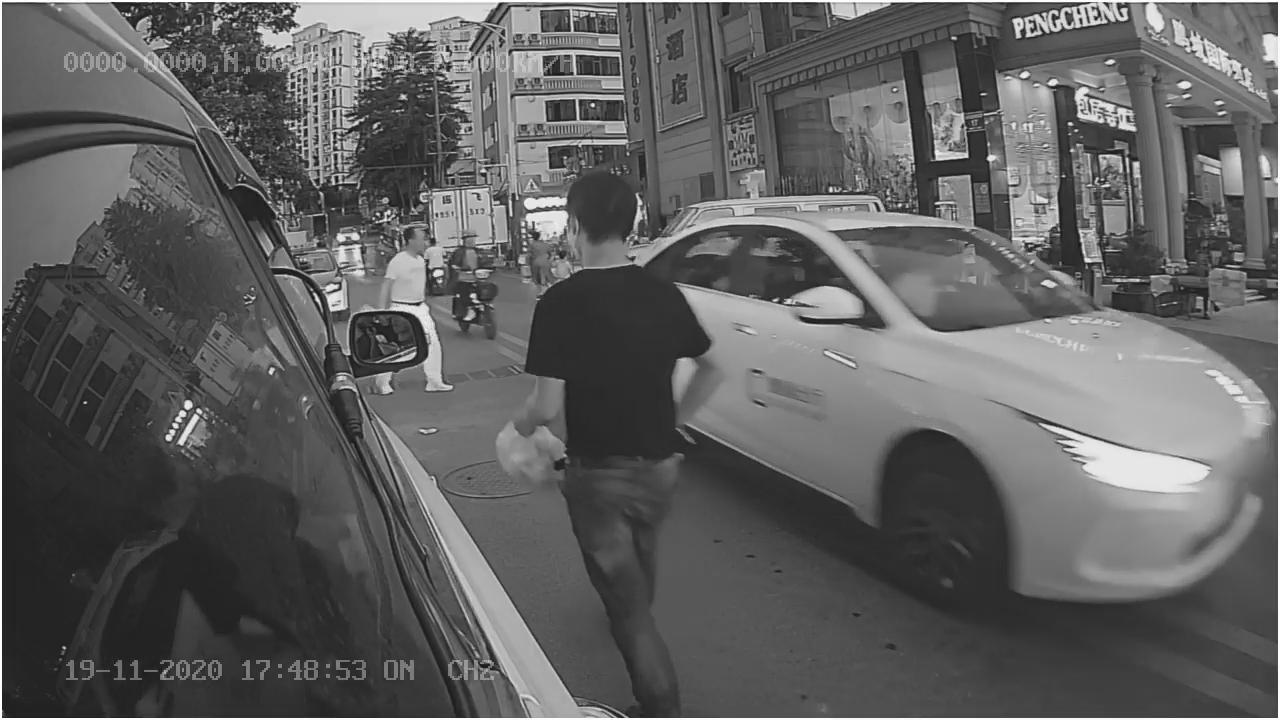person: (525, 169, 727, 578)
